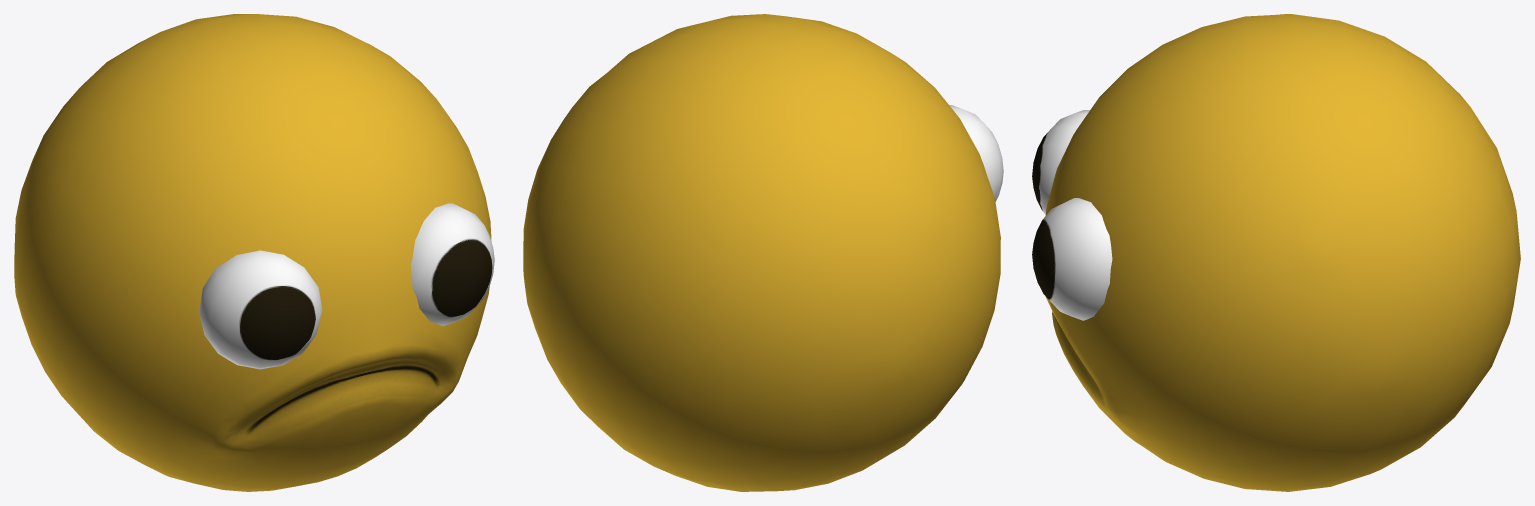
The model's file is emoji_sad.fbx.
The picture shows the model from 3 angles, left to right: view 1: azimuth 30°, elevation 25°; view 2: azimuth 150°, elevation 25°; view 3: azimuth 270°, elevation 25°; orthographic projection.
Parts seen in each view (by area): view 1: emoji_sad; view 2: emoji_sad; view 3: emoji_sad.
Boxes of the visible parts, box(x1,y1,x2,y2) form: emoji_sad: box(14, 14, 494, 491); emoji_sad: box(523, 14, 1003, 491); emoji_sad: box(1032, 14, 1520, 491).
Bounding box in the file's own units: 1.29 × 1.29 × 1.32.
